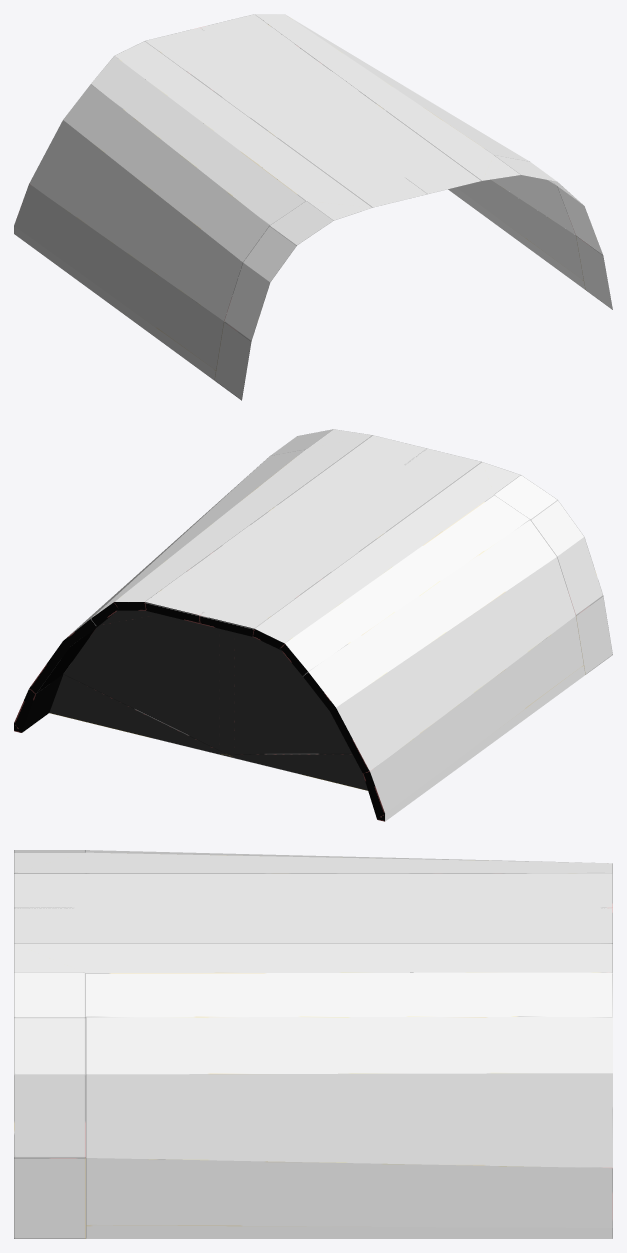
File: tgv_m_end_cap.obj
The picture shows the model from 3 angles, top to bottom: view 1: azimuth 30°, elevation 25°; view 2: azimuth 150°, elevation 25°; view 3: azimuth 270°, elevation 25°; orthographic projection. The views are drawn at different scales.
Visible parts, largest first — view 1: end_cap; view 2: end_cap; view 3: end_cap.
Part boxes in pixels (x1,y1,x2,y2): end_cap: (14,14,612,400); end_cap: (14,429,612,821); end_cap: (14,850,612,1238).
Size of the model in its own units: 2.94 by 1.22 by 3.12.
1 material, 1 textured.
